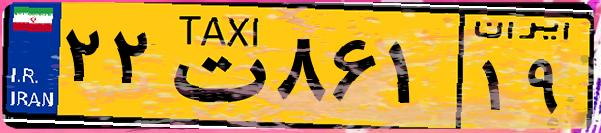1: (385, 28, 445, 110), (475, 38, 525, 113)
2: (57, 26, 110, 100), (110, 28, 158, 98)
6: (330, 28, 385, 110)
8: (270, 28, 330, 110)
9: (525, 38, 570, 115)
ت: (158, 12, 270, 120)
